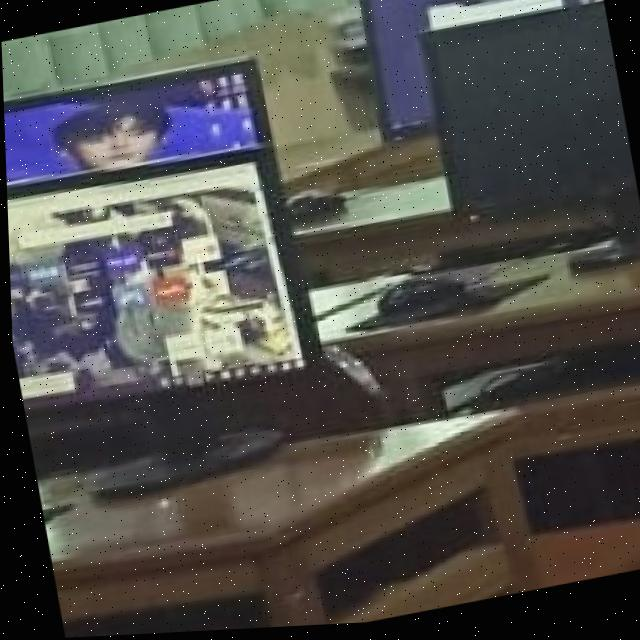offscreen: (424, 9, 635, 215), (360, 0, 603, 144)
onscreen: (6, 164, 301, 401), (3, 63, 268, 187)
